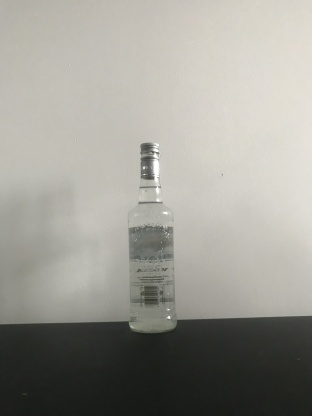nakretka: (138, 141, 161, 180)
